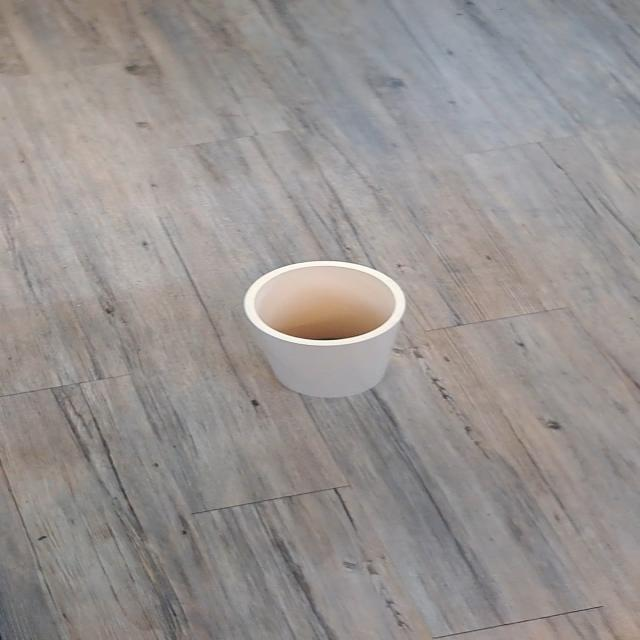CORAL: (199, 238, 445, 420)
